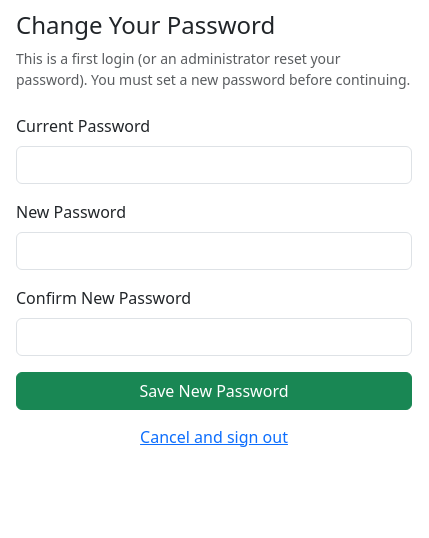
Test case: ChangePassword › rejects a confirm password that does not match the new password
Expected: the form with test id "change-password-form" is shown, [16,114,412,456]
Type "TempPass1!" into the password field with test id "current-password" at (214, 165), box [16,146,412,184]
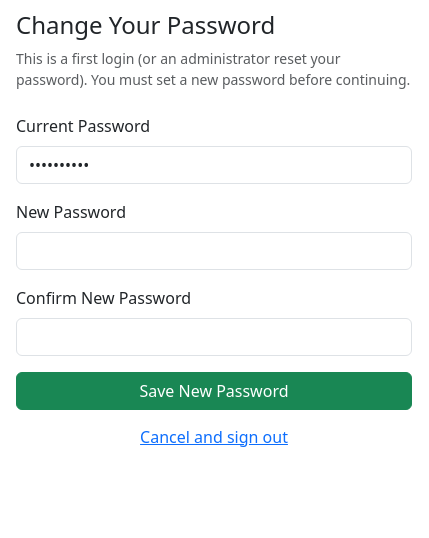
Type "NewPassword1!" into the password field with test id "new-password" at (214, 251), box [16,232,412,270]
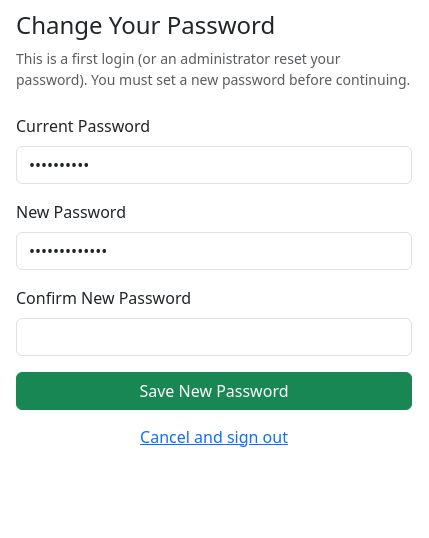
Type "Different1!" into the password field with test id "confirm-password" at (214, 337), box [16,318,412,356]
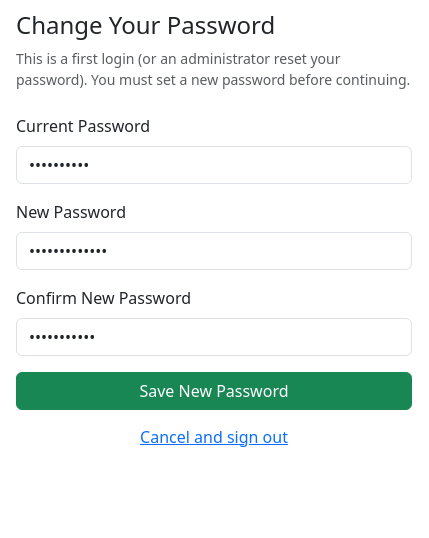
Click the button with test id "change-password-submit" at (214, 391), box [16,372,412,410]
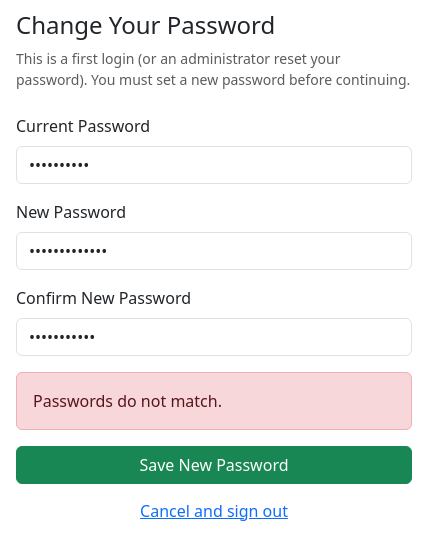
Result: the message "Passwords do not match." is shown at [16,372,412,430]
Result: the message with test id "change-password-error" shows "do not match" at [33,390,222,412]
